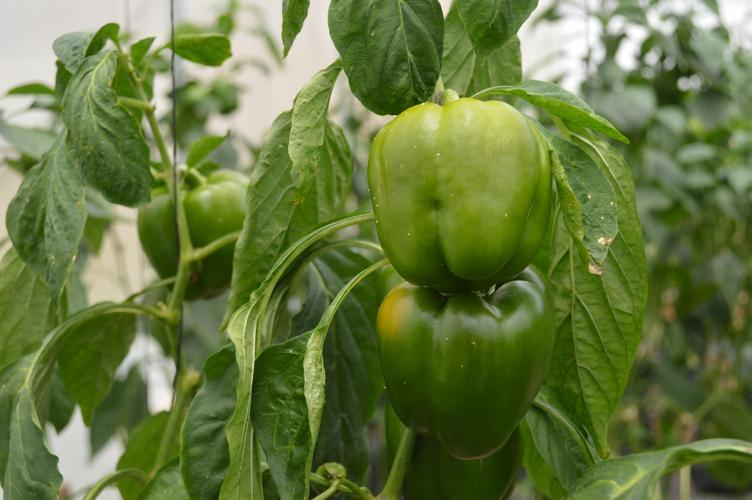BellPepper: (366, 100, 555, 293), (373, 273, 555, 455), (138, 169, 245, 297), (376, 410, 525, 498)
